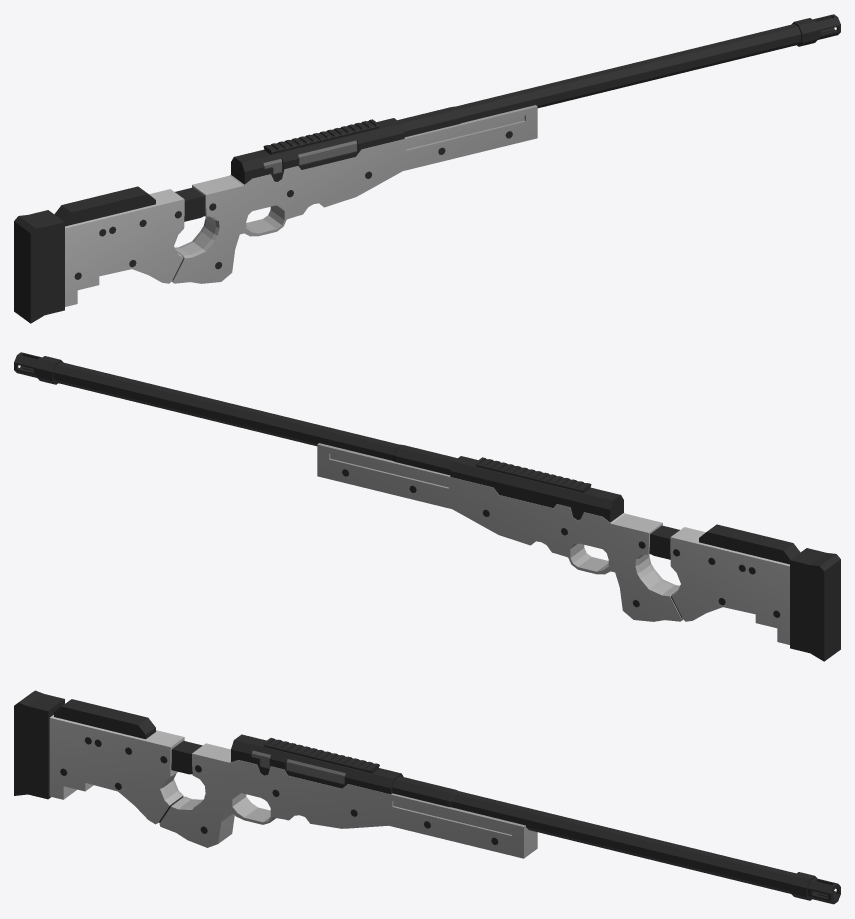
File: SniperRifle1_03.fbx
The picture shows the model from 3 angles, top to bottom: view 1: azimuth 30°, elevation 25°; view 2: azimuth 150°, elevation 25°; view 3: azimuth 330°, elevation 25°; orthographic projection.
Visible parts, largest first — view 1: SniperRifle1_03; view 2: SniperRifle1_03; view 3: SniperRifle1_03.
Boxes of the visible parts, x1,y1,x2,y2 form: SniperRifle1_03: (14,14,840,323); SniperRifle1_03: (14,352,840,661); SniperRifle1_03: (14,690,840,904).
Bounding box in the file's own units: 1.39 × 0.1884 × 0.0495.
